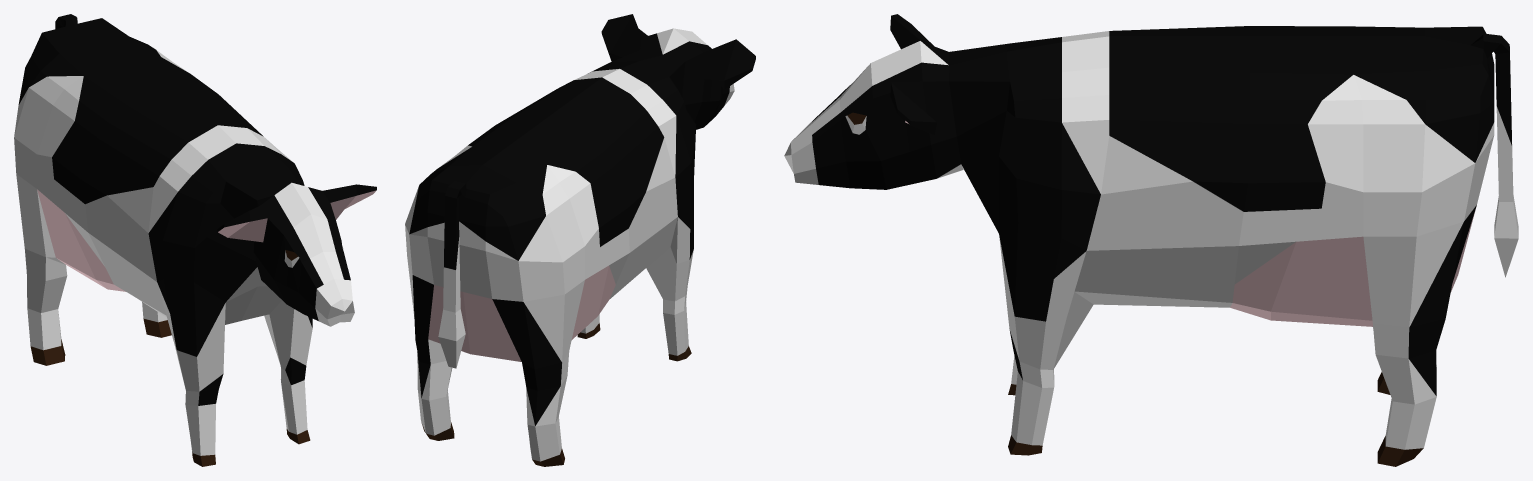
File: Cow - Low Poly.fbx
3 views of the same model, side by side, from view 1: azimuth 30°, elevation 25°; view 2: azimuth 150°, elevation 25°; view 3: azimuth 270°, elevation 25° (orthographic). The views are drawn at different scales.
Visible parts, largest first — view 1: Cow; view 2: Cow; view 3: Cow.
Boxes of the visible parts, bbox=[...] form: Cow: bbox=[14, 14, 376, 466]; Cow: bbox=[405, 14, 755, 466]; Cow: bbox=[784, 14, 1518, 466].
Bounding box in the file's own units: 96.46 × 170 × 294.
